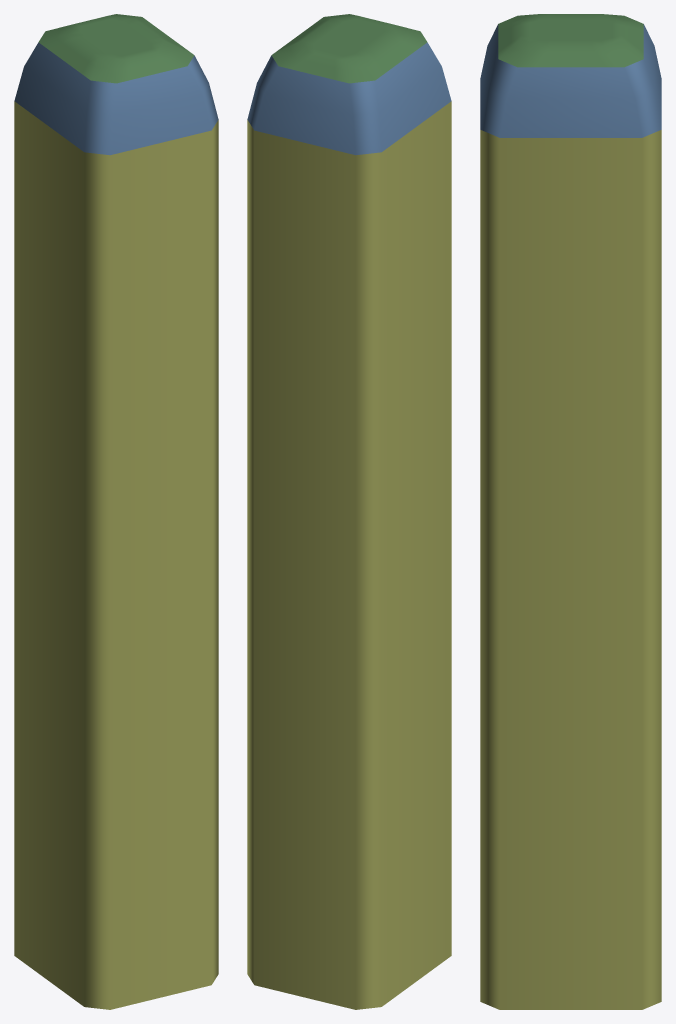
The model's file is Mini_Plat9.fbx.
3 renders of one model, left to right at view 1: azimuth 30°, elevation 25°; view 2: azimuth 150°, elevation 25°; view 3: azimuth 270°, elevation 25°, orthographic. The views are drawn at different scales.
Visible parts, largest first — view 1: Mini_Plat5, Wall8, Ground10; view 2: Mini_Plat5, Wall8, Ground10; view 3: Mini_Plat5, Wall8, Ground10.
Part boxes in pixels (x1,y1,x2,y2): Mini_Plat5: (14,101,218,1009); Wall8: (14,42,218,155); Ground10: (38,14,194,83); Mini_Plat5: (247,101,451,1009); Wall8: (247,42,451,155); Ground10: (271,14,427,83); Mini_Plat5: (480,130,661,1009); Wall8: (480,24,661,137); Ground10: (498,14,643,67).
Bounding box in the file's own units: 2037 × 13441 × 2336.
